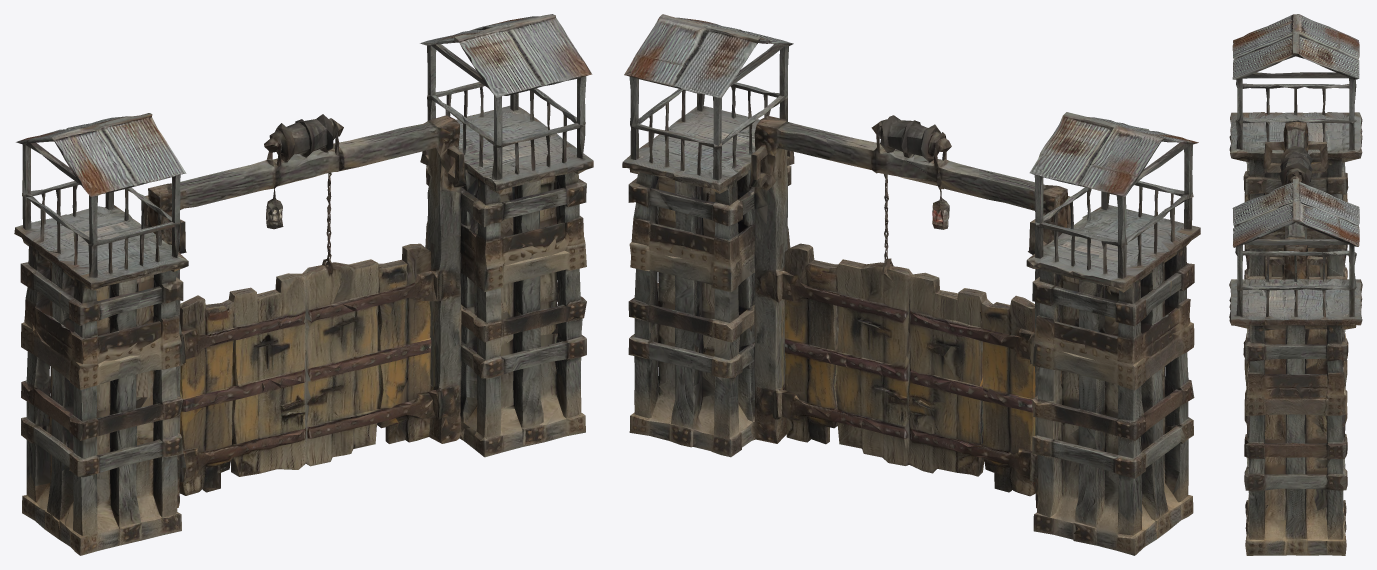
Rendered from gate.glb.
The picture shows the model from 3 angles, left to right: view 1: azimuth 30°, elevation 25°; view 2: azimuth 150°, elevation 25°; view 3: azimuth 270°, elevation 25°; orthographic projection. The views are drawn at different scales.
Visible parts, largest first — view 1: mesh_node; view 2: mesh_node; view 3: mesh_node.
Part boxes in pixels (x1=…): mesh_node: x1=14, y1=14, x2=593, y2=555; mesh_node: x1=622, y1=14, x2=1200, y2=555; mesh_node: x1=1229, y1=14, x2=1362, y2=555.
Size of the model in its own units: 1.9 by 1.41 by 0.5089.
1 material, 1 textured.
